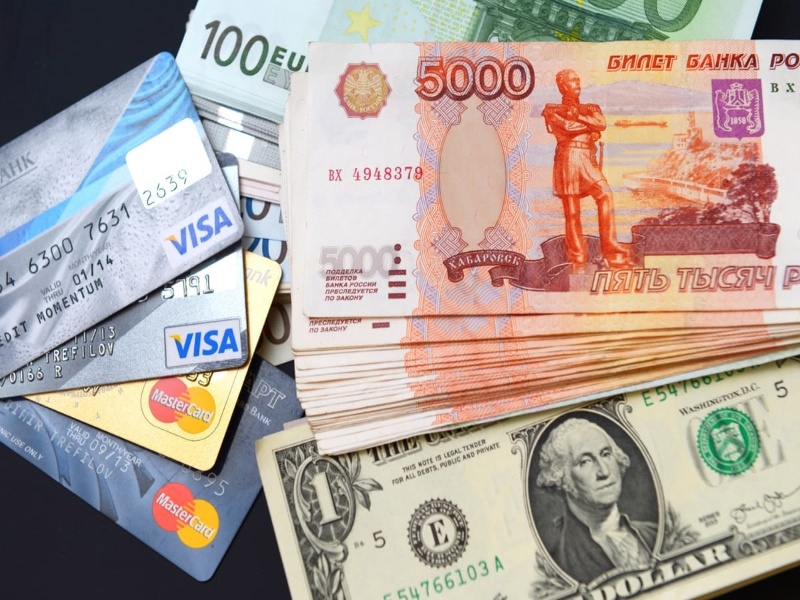cash: (282, 39, 800, 452), (257, 354, 800, 599), (175, 1, 765, 111)
